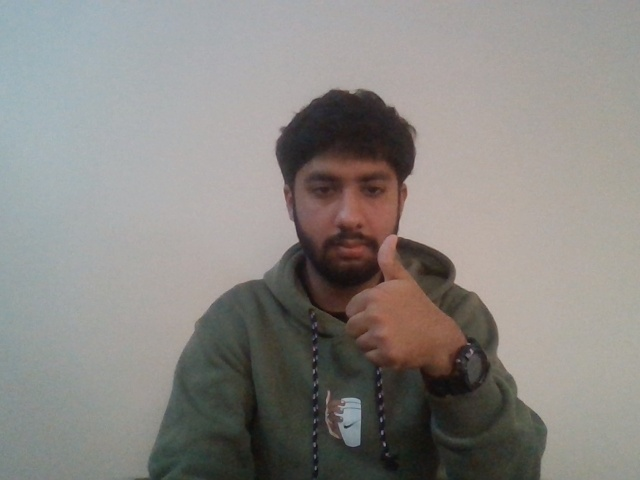Yes: (338, 231, 447, 376)
